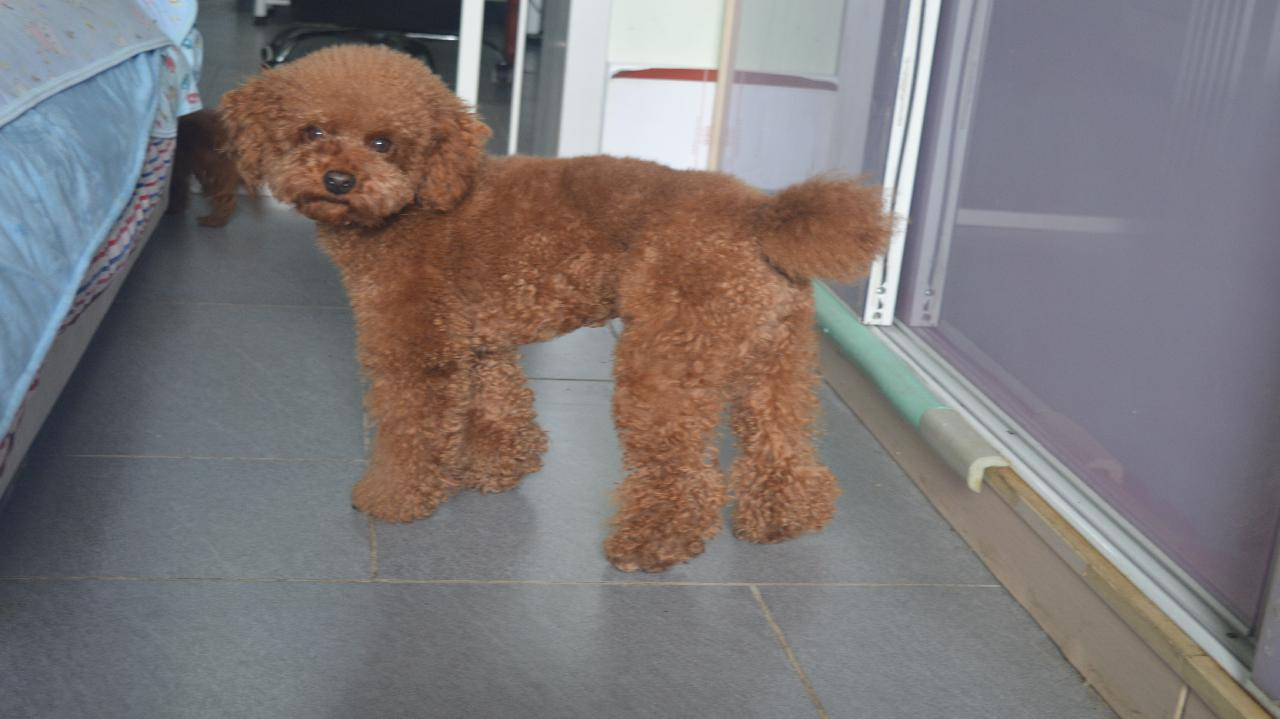coin: (168, 106, 252, 229)
zhuangzhuang: (229, 30, 875, 570)
